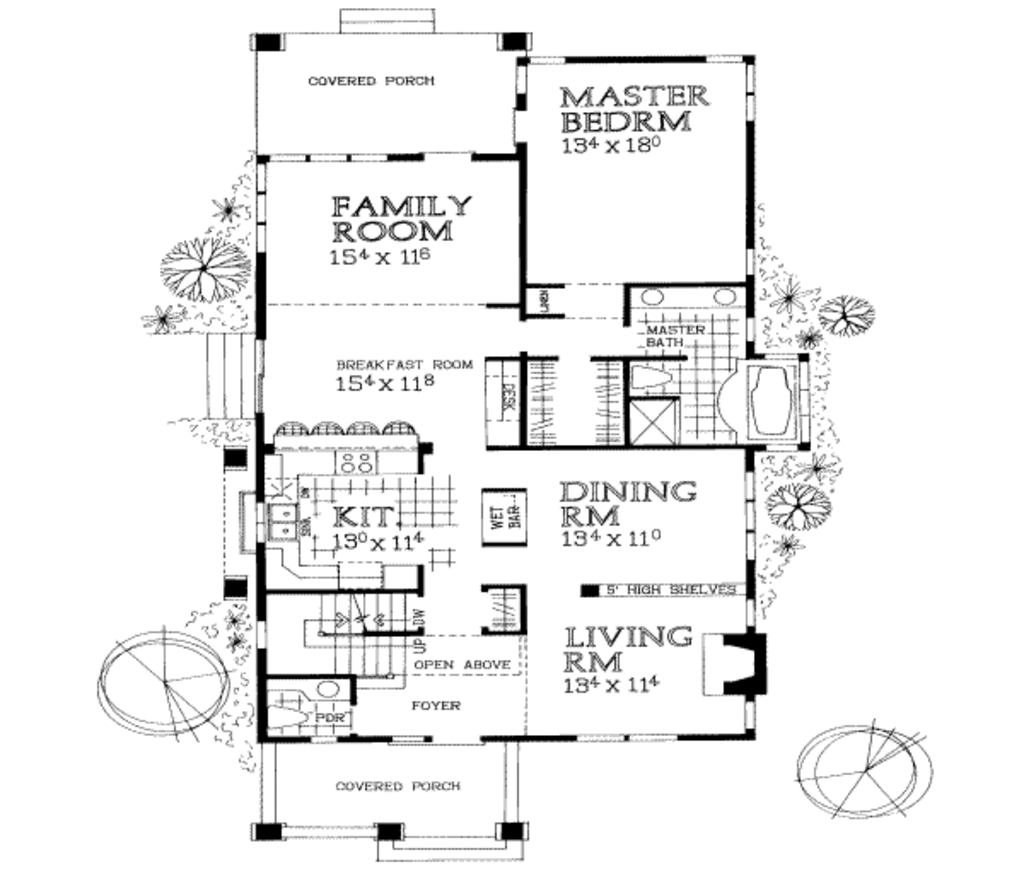kitchen_bar: (274, 412, 437, 492)
large_sink: (621, 355, 679, 399), (265, 700, 320, 735)
small_sink: (633, 288, 748, 312), (302, 673, 354, 704)
stairs: (270, 595, 424, 680), (165, 331, 262, 422)
tub: (752, 361, 805, 451)
twin_sink: (265, 500, 306, 551)
window: (266, 145, 392, 168), (392, 732, 486, 751), (252, 162, 267, 253), (577, 735, 685, 745), (744, 470, 754, 560)
